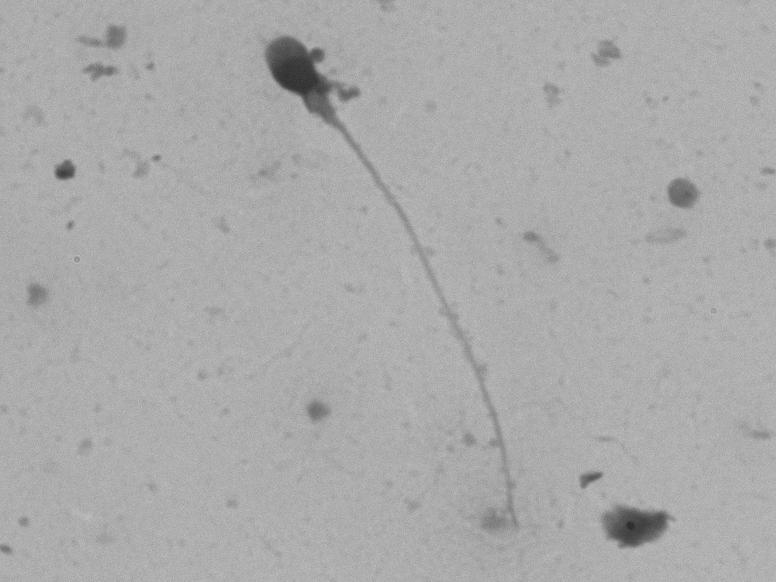Abnormal: (201, 20, 539, 521)
